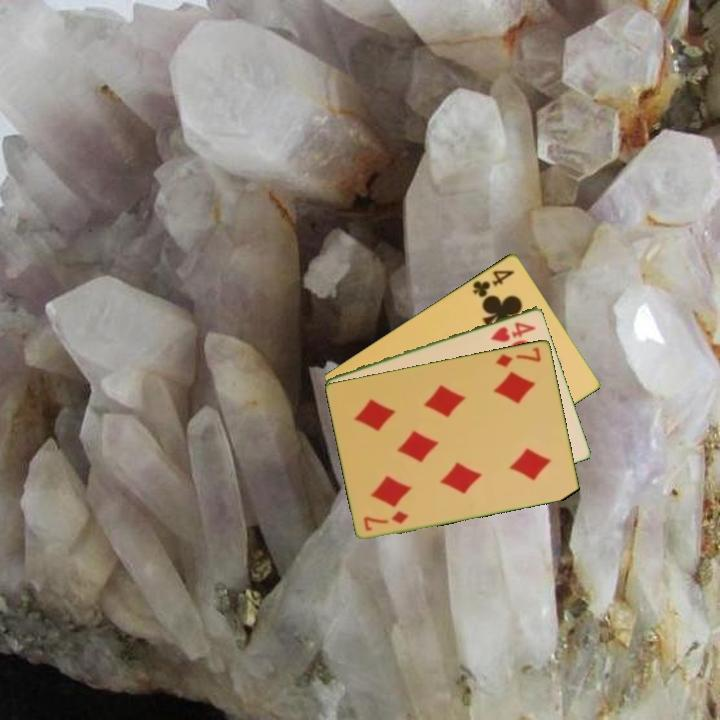4c: (469, 266, 518, 300)
4h: (487, 318, 539, 345)
7d: (493, 343, 544, 370), (360, 507, 411, 533)
